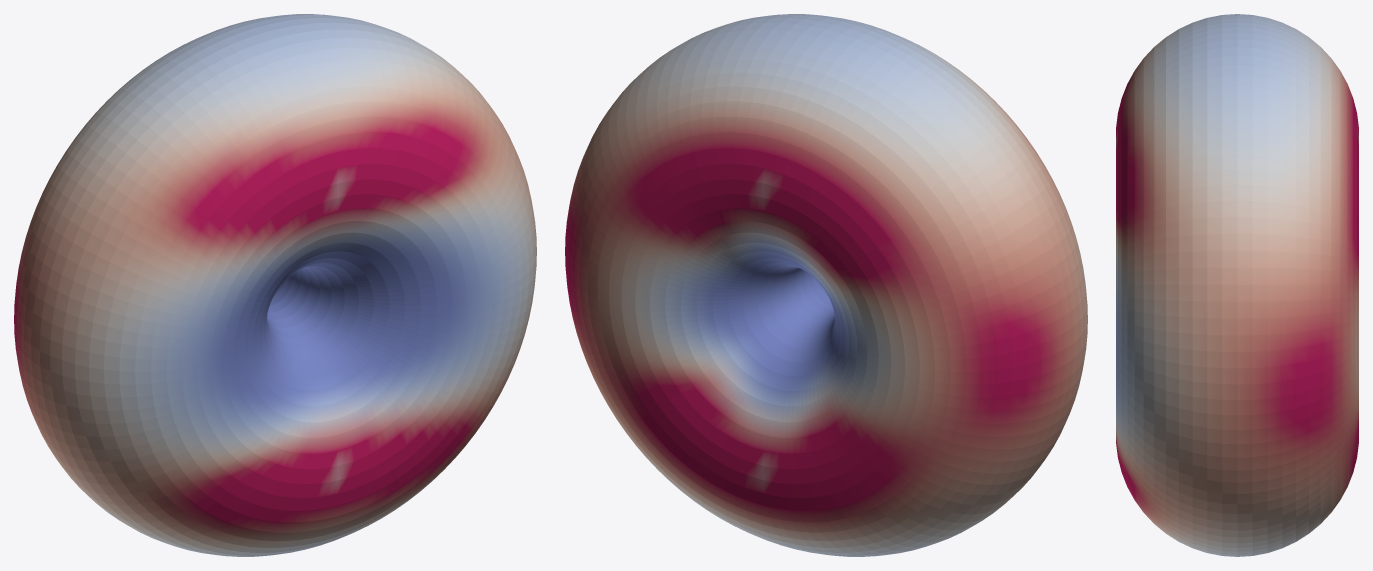
3 renders of one model, left to right at view 1: azimuth 30°, elevation 25°; view 2: azimuth 150°, elevation 25°; view 3: azimuth 270°, elevation 25°, orthographic. The views are drawn at different scales.
Parts seen in each view (by area): view 1: world; view 2: world; view 3: world.
Boxes of the visible parts, x1,y1,x2,y2 form: world: [14, 14, 536, 556]; world: [565, 14, 1087, 556]; world: [1116, 14, 1358, 556].
Size of the model in its own units: 19.33 by 19.33 by 8.65.
